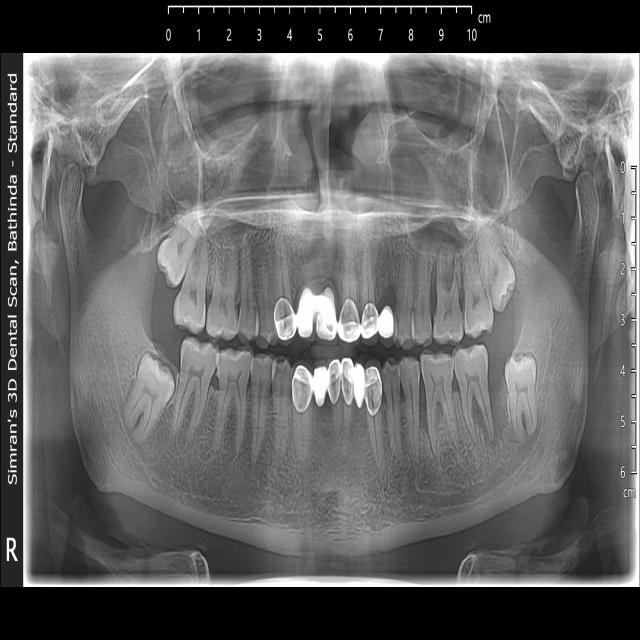Crown: (273, 285, 395, 337), (291, 359, 384, 414)
impacted tooth: (508, 355, 539, 441)
